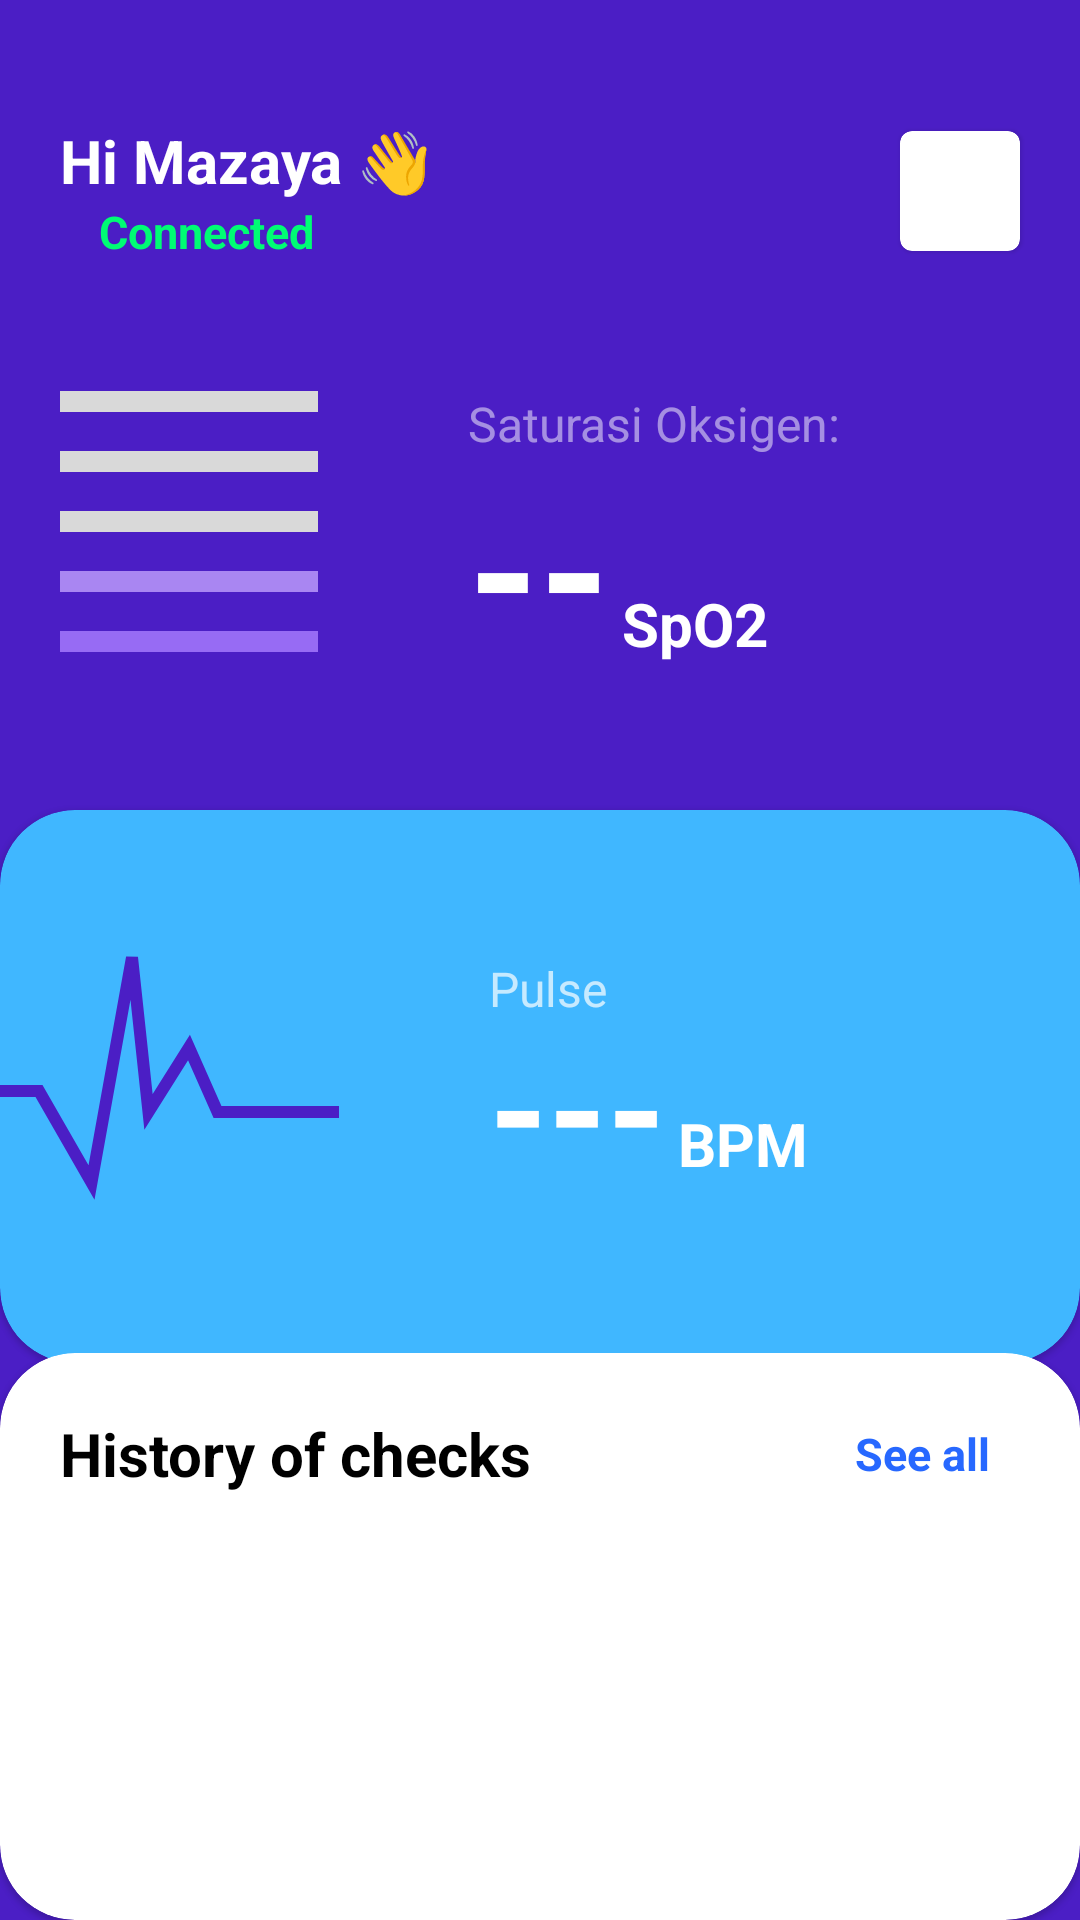

Point at icon controls on the screen. Image size 1080×1920, points as [x,y].
beat: [169,1078]
